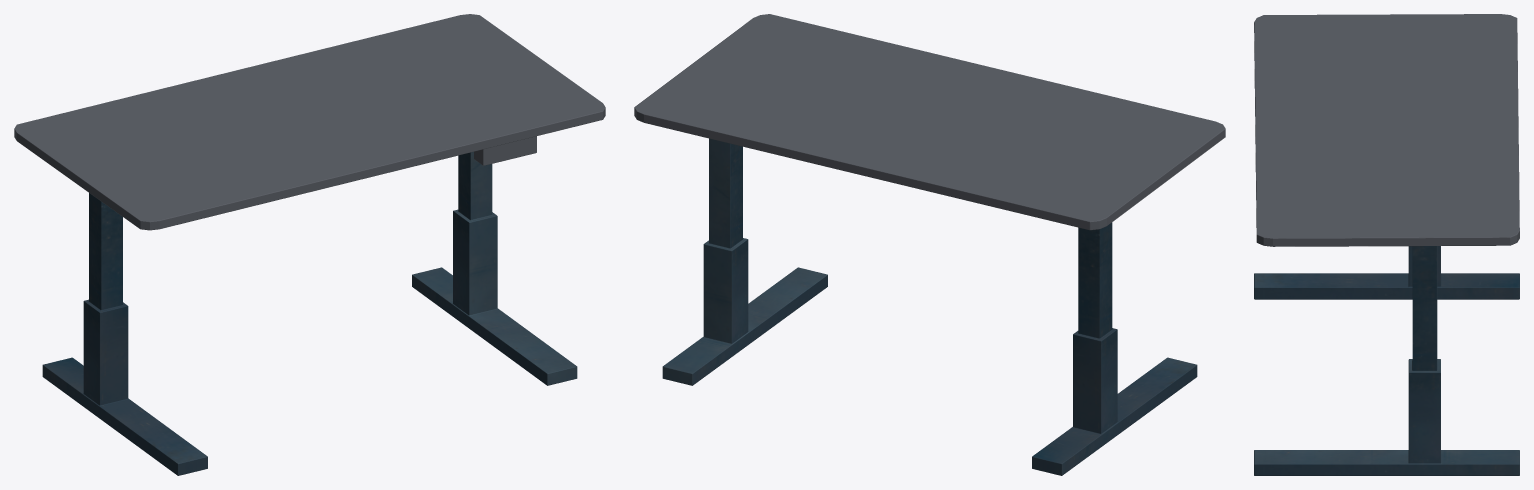
The model's file is desk_standing.glb.
3 views of the same model, side by side, from view 1: azimuth 30°, elevation 25°; view 2: azimuth 150°, elevation 25°; view 3: azimuth 270°, elevation 25° (orthographic). The views are drawn at different scales.
Parts seen in each view (by area): view 1: Desk_Standing; view 2: Desk_Standing; view 3: Desk_Standing.
Part boxes in pixels (x1,y1,x2,y2): Desk_Standing: [14, 14, 605, 475]; Desk_Standing: [634, 14, 1225, 475]; Desk_Standing: [1254, 14, 1519, 475].
Size of the model in its own units: 1.68 by 0.888 by 0.84.
2 materials, 1 textured.
